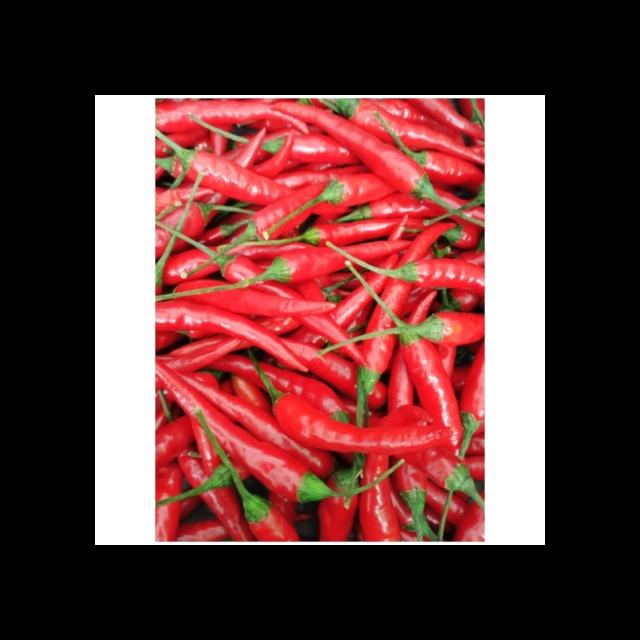chili_pepper: (158, 362, 309, 502), (274, 394, 453, 456), (156, 301, 307, 372), (329, 244, 486, 298), (400, 339, 463, 450), (264, 246, 346, 284), (344, 241, 412, 262)
